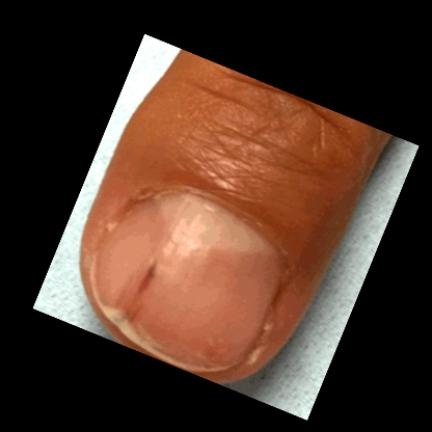Nail: (87, 192, 284, 371)
